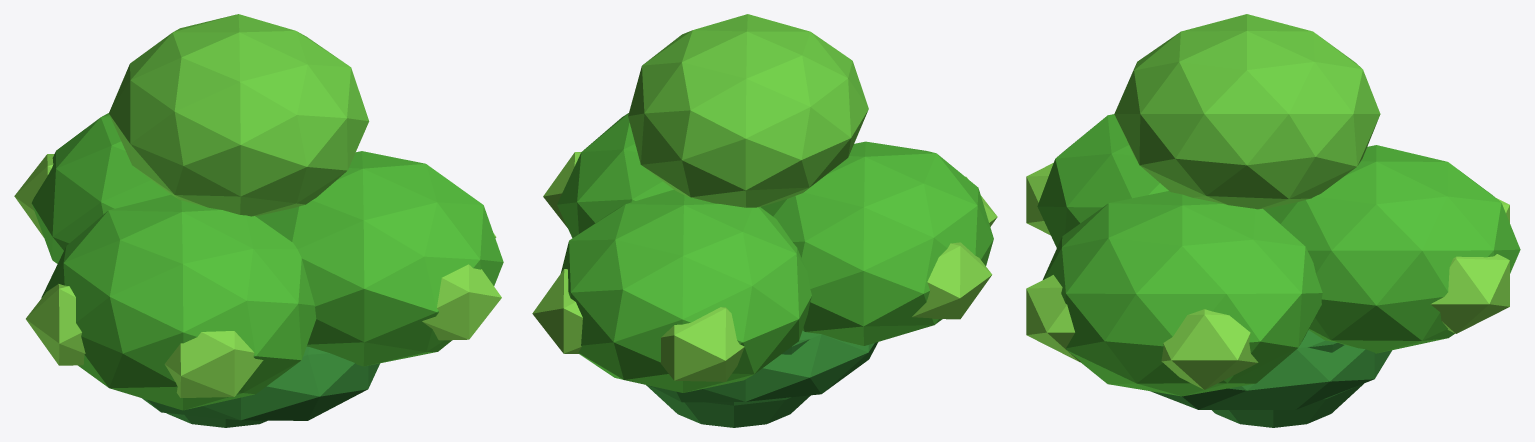
File: OakleafLeaves.glb
3 views of the same model, side by side, from view 1: azimuth 30°, elevation 25°; view 2: azimuth 150°, elevation 25°; view 3: azimuth 270°, elevation 25° (orthographic). The views are drawn at different scales.
Parts seen in each view (by area): view 1: OakleafLeaves_OakLobes, OakleafLeaves_OakCrown, OakleafLeaves_OakScallops, OakleafLeaves_OakBase; view 2: OakleafLeaves_OakLobes, OakleafLeaves_OakCrown, OakleafLeaves_OakScallops, OakleafLeaves_OakBase; view 3: OakleafLeaves_OakLobes, OakleafLeaves_OakCrown, OakleafLeaves_OakScallops, OakleafLeaves_OakBase.
Boxes of the visible parts, <box> form: OakleafLeaves_OakLobes: <box>31,113,503,410</box>; OakleafLeaves_OakCrown: <box>109,14,369,216</box>; OakleafLeaves_OakScallops: <box>14,154,501,397</box>; OakleafLeaves_OakBase: <box>142,346,379,427</box>; OakleafLeaves_OakLobes: <box>557,113,993,392</box>; OakleafLeaves_OakCrown: <box>628,14,868,207</box>; OakleafLeaves_OakScallops: <box>532,152,997,381</box>; OakleafLeaves_OakBase: <box>646,330,878,427</box>; OakleafLeaves_OakLobes: <box>1037,114,1520,396</box>; OakleafLeaves_OakCrown: <box>1114,14,1380,209</box>; OakleafLeaves_OakScallops: <box>1026,163,1509,389</box>; OakleafLeaves_OakBase: <box>1151,330,1391,427</box>.
Bounding box in the file's own units: 3.4 × 2.8 × 3.4.
